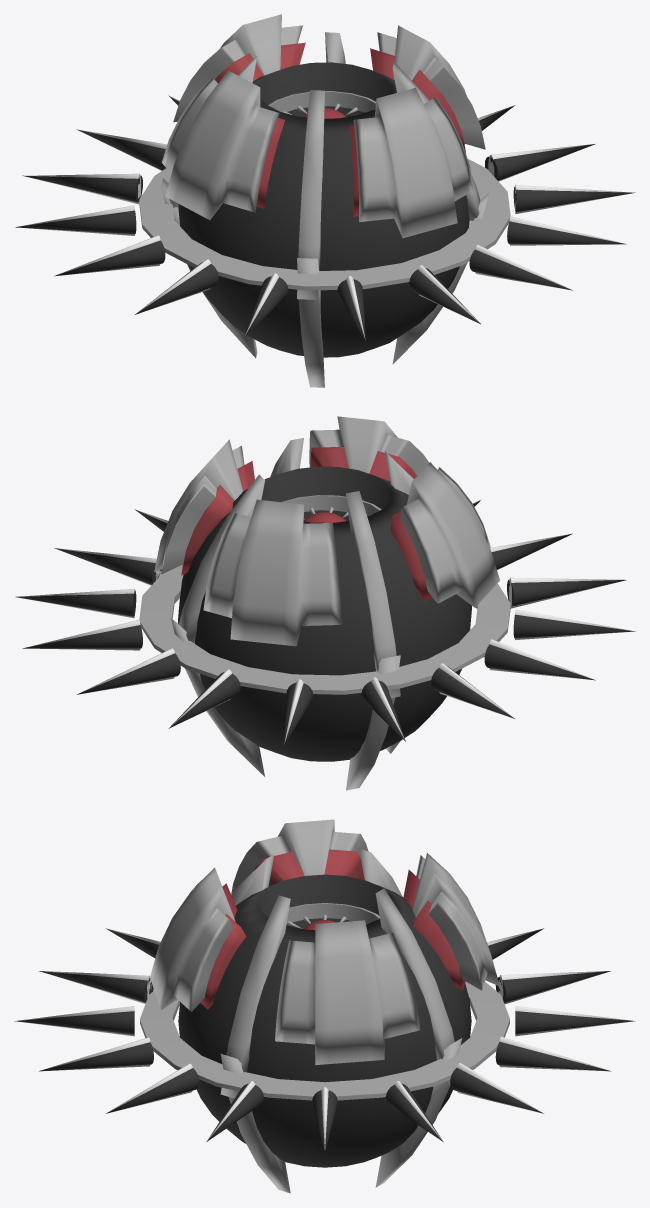
Rendered from Boss02.fbx.
3 renders of one model, top to bottom at view 1: azimuth 30°, elevation 25°; view 2: azimuth 150°, elevation 25°; view 3: azimuth 270°, elevation 25°, orthographic.
Visible parts, largest first — view 1: pSphere10, pSphere18, pSphere19, pPipe2, pSphere20, pSphere17, pSphere21, pSphere28, pCone34, pCone33, pCone26, pCone14 (+21 smaller); view 2: pSphere10, pSphere17, pPipe2, pSphere19, pSphere20, pSphere18, pSphere22, pSphere24, pSphere25, pSphere16, pCone17, pCone29 (+22 smaller); view 3: pSphere10, pSphere20, pPipe2, pSphere18, pSphere17, pSphere19, pSphere23, pSphere24, pSphere27, pSphere26, pSphere15, pSphere13 (+21 smaller).
Boxes of the visible parts, x1,y1,x2,y2 form: pSphere10: (178, 62, 469, 357); pSphere18: (353, 88, 473, 238); pSphere19: (161, 70, 279, 219); pPipe2: (139, 159, 510, 290); pSphere20: (377, 25, 485, 149); pSphere17: (173, 14, 302, 122); pSphere21: (297, 90, 324, 299); pSphere28: (297, 258, 324, 387); pCone34: (16, 210, 136, 233); pCone33: (22, 175, 142, 202); pCone26: (513, 186, 635, 212); pCone14: (507, 221, 626, 244); pSphere10: (178, 466, 471, 761); pSphere17: (203, 499, 342, 646); pPipe2: (139, 564, 510, 694); pSphere19: (400, 462, 499, 607); pSphere20: (154, 439, 244, 573); pSphere18: (309, 416, 429, 475); pSphere22: (346, 491, 400, 697); pSphere24: (179, 474, 265, 642); pSphere25: (346, 655, 400, 790); pSphere16: (181, 461, 254, 575); pCone17: (513, 614, 635, 638); pCone29: (22, 625, 142, 648); pSphere10: (178, 874, 471, 1167); pSphere20: (275, 920, 420, 1064); pPipe2: (140, 981, 509, 1100); pSphere18: (150, 867, 235, 1011); pSphere17: (412, 853, 499, 990); pSphere19: (231, 819, 368, 895); pSphere23: (220, 895, 290, 1098); pSphere24: (375, 888, 454, 1085); pSphere27: (220, 1054, 290, 1193); pSphere26: (375, 1038, 462, 1187); pSphere15: (403, 870, 465, 990); pSphere13: (254, 849, 364, 886).
Size of the model in its own units: 424 by 229 by 424.
